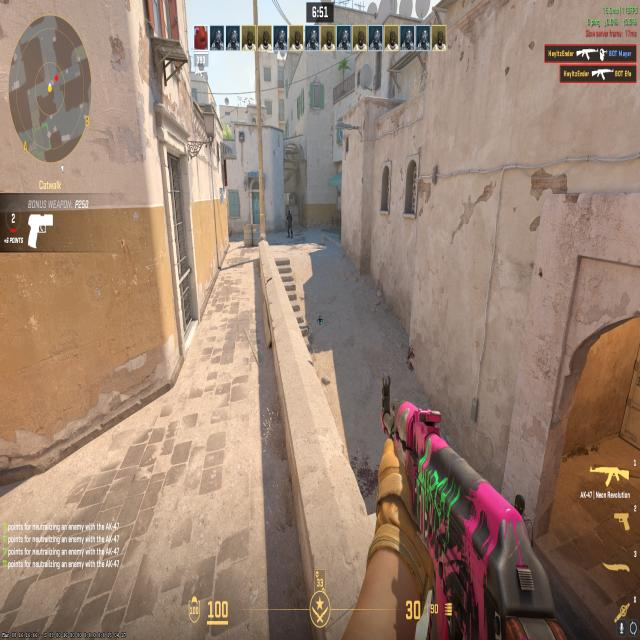ct: (286, 208, 294, 238)
